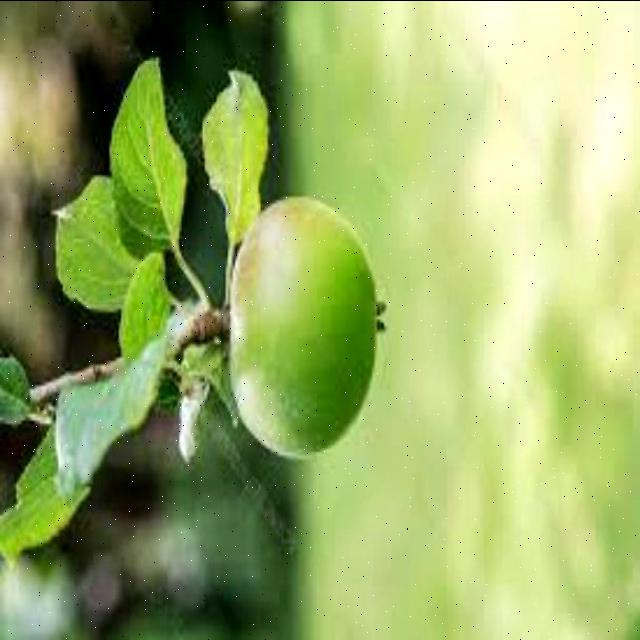HEALTHY: (202, 162, 396, 479)
